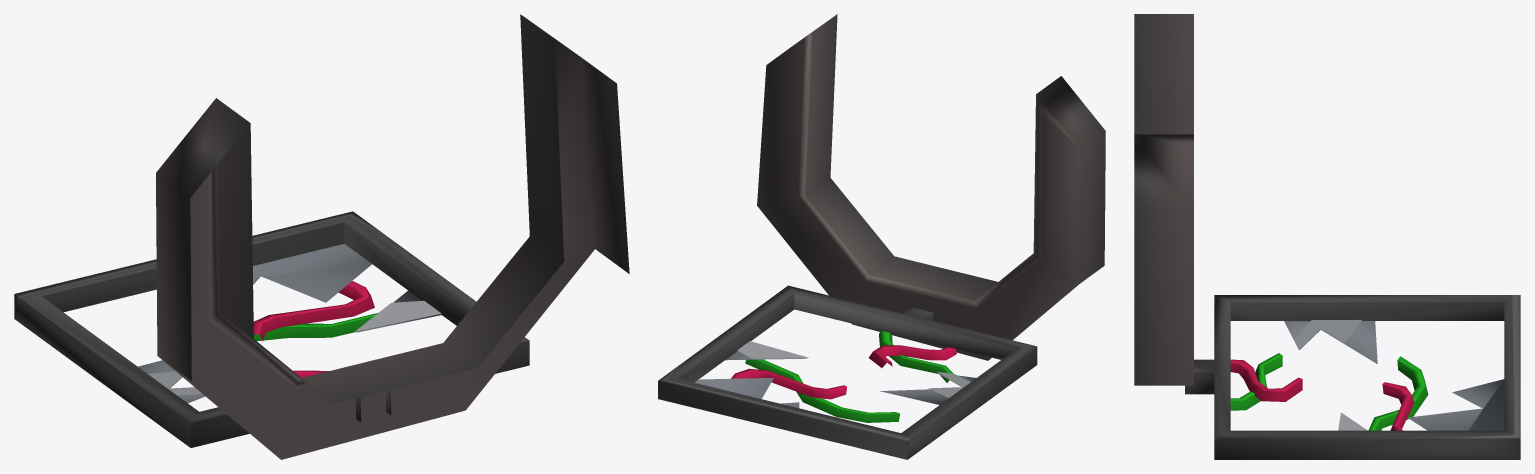
File: LightHouseMirrorBroken.fbx
3 views of the same model, side by side, from view 1: azimuth 30°, elevation 25°; view 2: azimuth 150°, elevation 25°; view 3: azimuth 270°, elevation 25° (orthographic). The views are drawn at different scales.
Visible parts, largest first — view 1: LightHouseMirrorBroken; view 2: LightHouseMirrorBroken; view 3: LightHouseMirrorBroken.
Boxes of the visible parts, x1,y1,x2,y2 form: LightHouseMirrorBroken: [14, 14, 629, 459]; LightHouseMirrorBroken: [658, 14, 1105, 459]; LightHouseMirrorBroken: [1134, 14, 1520, 459].
Size of the model in its own units: 185 by 156 by 162.
